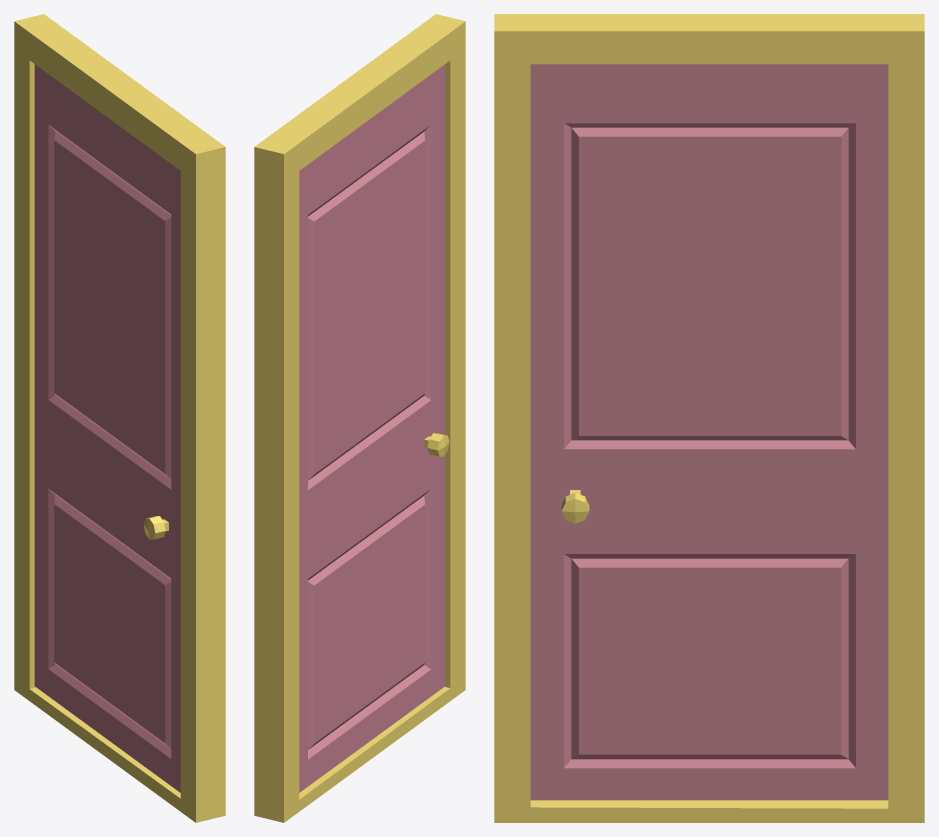
File: Laundry_door.fbx
The picture shows the model from 3 angles, left to right: view 1: azimuth 30°, elevation 25°; view 2: azimuth 150°, elevation 25°; view 3: azimuth 270°, elevation 25°; orthographic projection. The views are drawn at different scales.
Parts seen in each view (by area): view 1: Laundry_door; view 2: Laundry_door; view 3: Laundry_door.
Boxes of the visible parts, x1,y1,x2,y2 form: Laundry_door: (14, 14, 225, 822); Laundry_door: (254, 14, 465, 822); Laundry_door: (494, 14, 924, 822).
Bounding box in the file's own units: 33.02 × 334 × 164.
